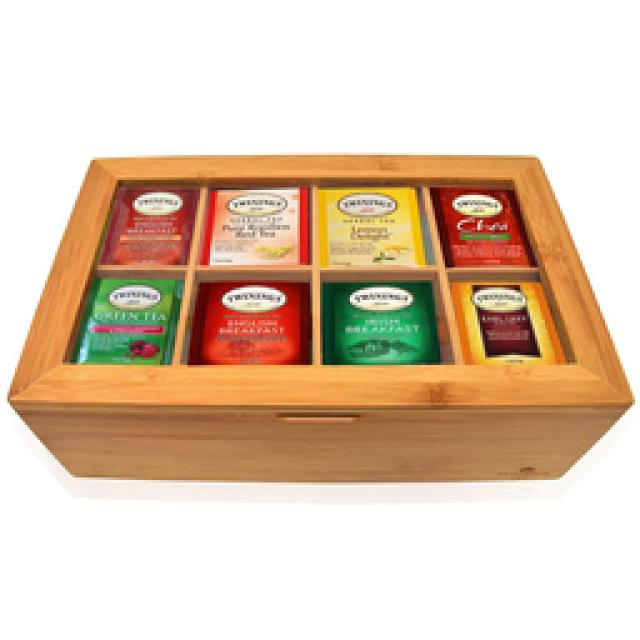tea-bags: (72, 185, 562, 360)
